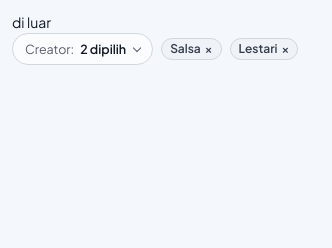
MultiSelect, as the prototype's chip dropdown › the Semua option › drops every chip once pressed
The width and height of the screenshot is (332, 248).
Click the button "Creator: 2 dipilih": coordinates (83, 49) [12,33,153,65]
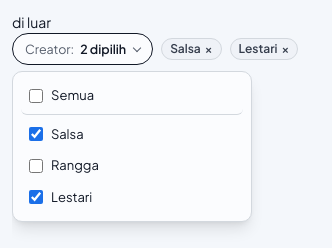
Click the checkbox labelled "Semua": coordinates (36, 96) [29,89,43,103]
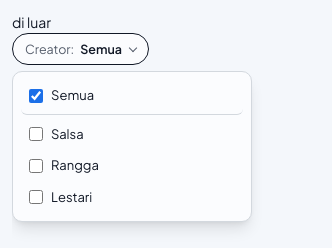
Check: the button "Creator: Semua" is shown, box [12,33,149,65]
